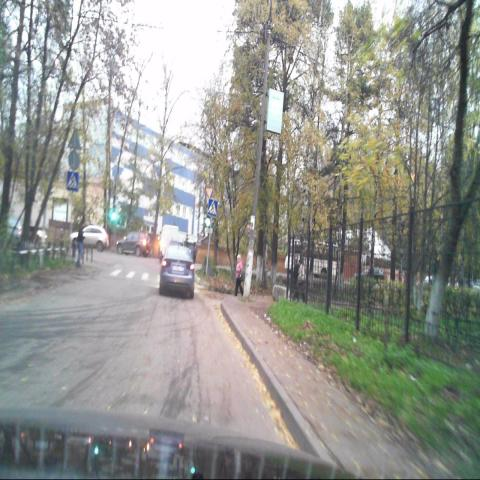2_4: (204, 187, 213, 199)
5_19_1: (206, 199, 218, 217), (68, 171, 78, 191)
